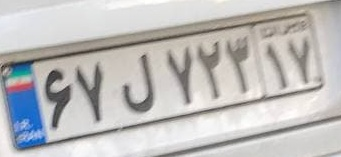character: (115, 50, 159, 116), (41, 66, 73, 133), (73, 60, 106, 124), (163, 44, 196, 107), (225, 30, 253, 96), (197, 37, 224, 103), (263, 39, 287, 91), (288, 34, 311, 87)
